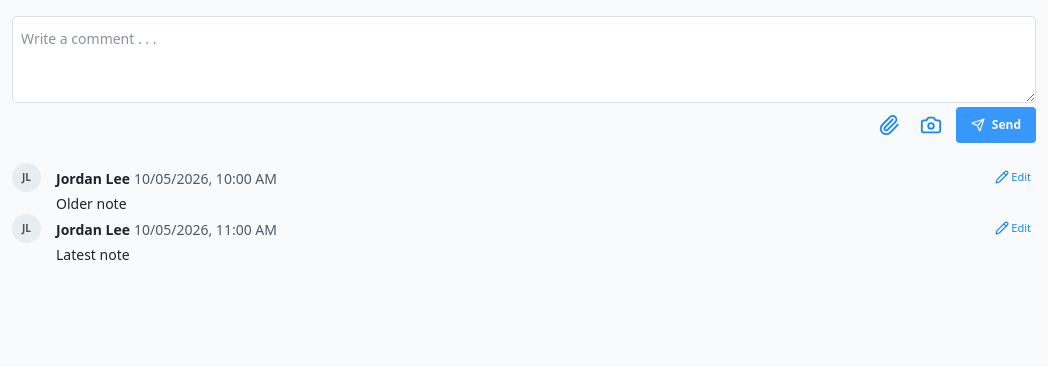
Scenario: WorkOrderActivity › keeps an older loaded comment visible after editing it
Click the button with aria-label "Edit comment". click: [1013, 177]
box: [990,163,1036,191]
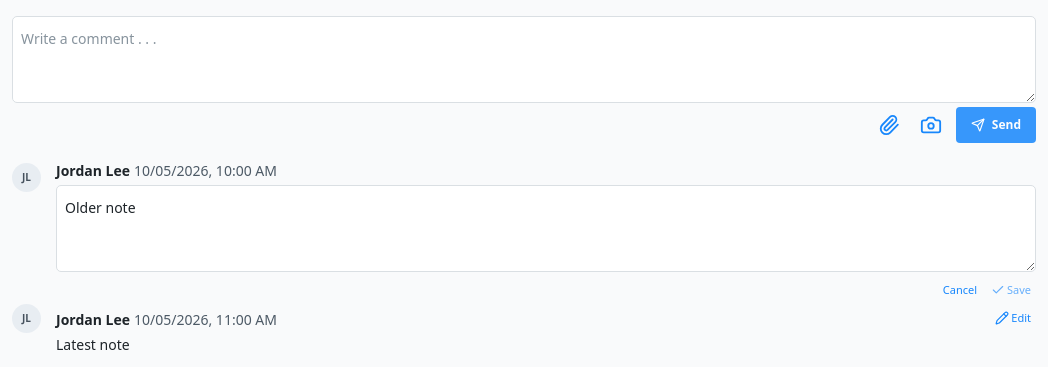
Replace the text in the text box named "Edit comment" with "Edited older note". click: [546, 229]
box: [56,185,1036,272]
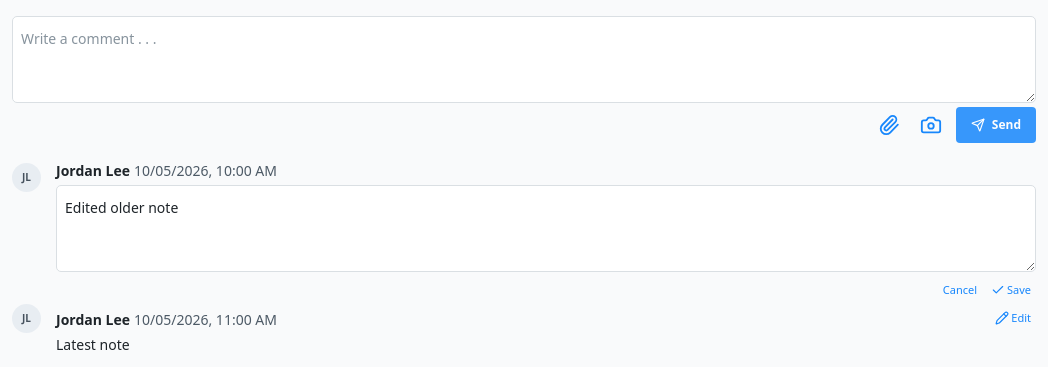
Click the button "Save". click: [1011, 290]
box: [986,276,1036,304]
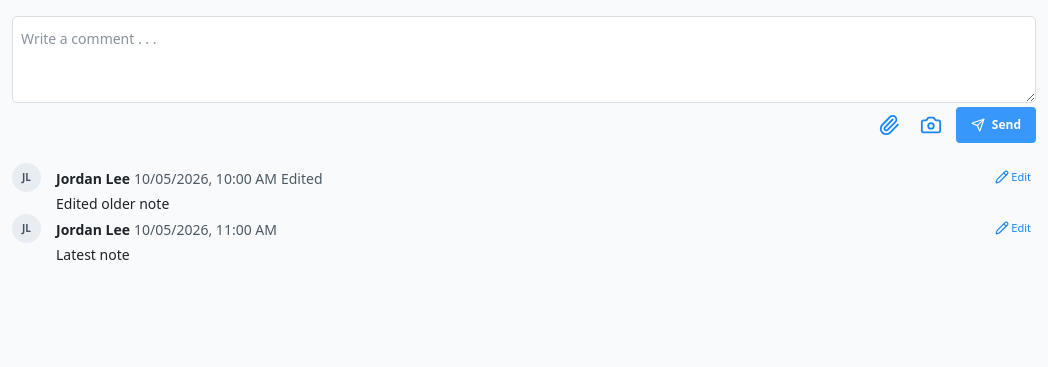
Expected: the text "Edited older note" is shown, [56,194,169,213]
